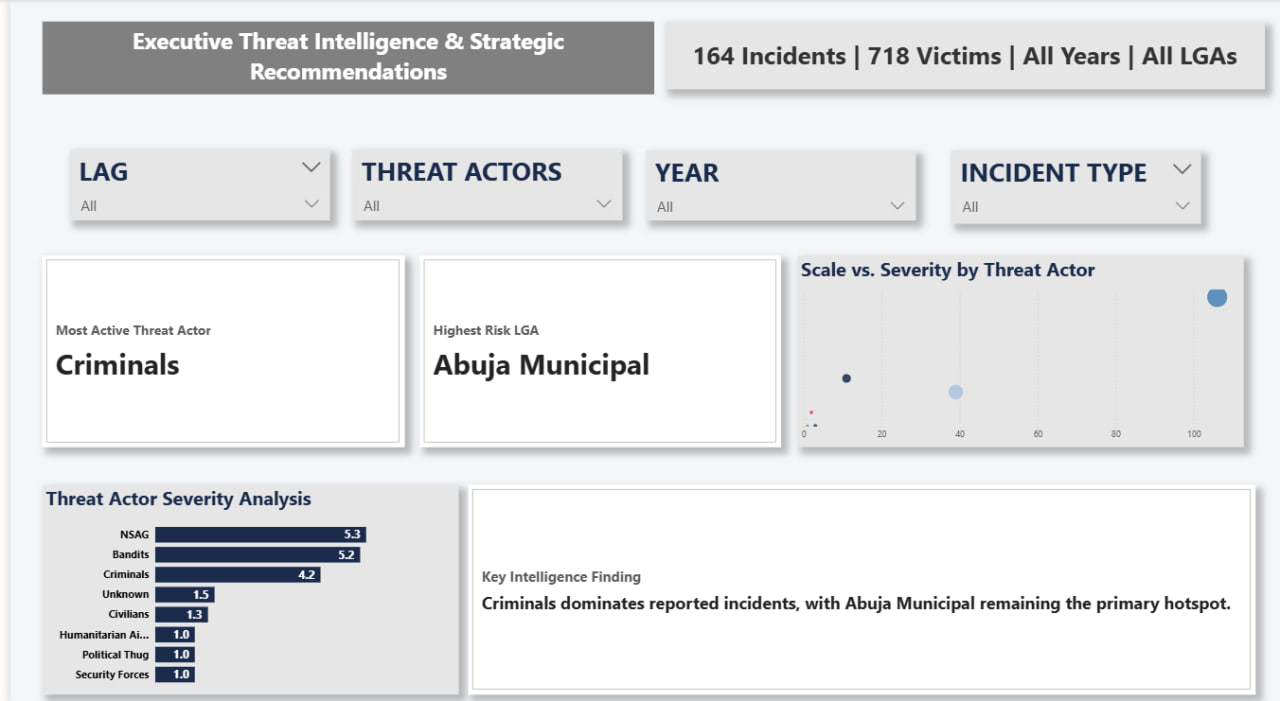

The dashboard page shown, as its layout file describes it:
{"tool":"powerbi","page":{"name":"hreat Intelligence & Strategic Recommendations","canvas":[1800,1000],"ordinal":2},"visuals":[{"type":"scatterChart","title":"Scale vs. Severity by Threat Actor","fields":{"Series":["dim-THREAT ACTORS.THREAT ACTORS"],"Size":["kpi).People Kidnapped"],"X":["kpi).Total Incidents"],"Y":["kpi).People Killed"]},"box":[1114.3,363.6,631.7,271.4],"z":0},{"type":"clusteredBarChart","title":"Threat Actor Severity Analysis","fields":{"Category":["dim-THREAT ACTORS.THREAT ACTORS"],"Y":["kpi).Average Kidnapped Per Incident"]},"box":[45.2,688.7,589.8,296.6],"z":1000},{"type":"slicer","title":"LAG","fields":{"Values":["dim-SECURITY INCIDENT SUB-TYPE.SECURITY INCIDENT SUB-TYPE"]},"box":[1332.1,214.5,353.6,103.9],"z":2000},{"type":"slicer","title":"LAG","fields":{"Values":["dim-date.YEAR"]},"box":[899.8,214.5,382,98.9],"z":3000},{"type":"slicer","title":"LAG","fields":{"Values":["dim-THREAT ACTORS.THREAT ACTORS"]},"box":[484.3,212.8,382,100.5],"z":4000},{"type":"textbox","box":[866.2,528.5,778.4,81.1],"z":5000},{"type":"textbox","box":[45.6,32.1,866.2,103],"z":6000},{"type":"slicer","title":"LAG","fields":{"Values":["dim-LAG.LAG"]},"box":[83.8,212.8,368.6,100.5],"z":7000},{"type":"cardVisual","fields":{"Data":["kpi).Highest Risk LGA"]},"box":[579.8,363.6,511.1,271.4],"z":8000},{"type":"card","fields":{"Values":["kpi).Dashboard Summary"]},"box":[927,32.1,849.3,96.2],"z":9000},{"type":"cardVisual","fields":{"Data":["kpi).Most Active Threat Actor"]},"box":[45.2,363.6,512.7,271.4],"z":10000},{"type":"cardVisual","fields":{"Data":["kpi).Key Intelligence Finding"]},"box":[648.5,688.7,1114.3,296.6],"z":11000}]}

Visuals, with their boxes in screenshot pixels (x1, y1, x2, y2), scaled from the page's 1800x1000 canvas onto the 1280x701 screenshot:
"Scale vs. Severity by Threat Actor" scatterChart: pyautogui.locateOnScreen(792, 255, 1242, 445)
"Threat Actor Severity Analysis" clusteredBarChart: pyautogui.locateOnScreen(32, 483, 452, 691)
"LAG" slicer: pyautogui.locateOnScreen(947, 150, 1199, 223)
"LAG" slicer: pyautogui.locateOnScreen(640, 150, 912, 220)
"LAG" slicer: pyautogui.locateOnScreen(344, 149, 616, 220)
textbox: pyautogui.locateOnScreen(616, 370, 1169, 427)
textbox: pyautogui.locateOnScreen(32, 23, 648, 95)
"LAG" slicer: pyautogui.locateOnScreen(60, 149, 322, 220)
cardVisual - kpi).Highest Risk LGA: pyautogui.locateOnScreen(412, 255, 776, 445)
card - kpi).Dashboard Summary: pyautogui.locateOnScreen(659, 23, 1263, 90)
cardVisual - kpi).Most Active Threat Actor: pyautogui.locateOnScreen(32, 255, 397, 445)
cardVisual - kpi).Key Intelligence Finding: pyautogui.locateOnScreen(461, 483, 1254, 691)
